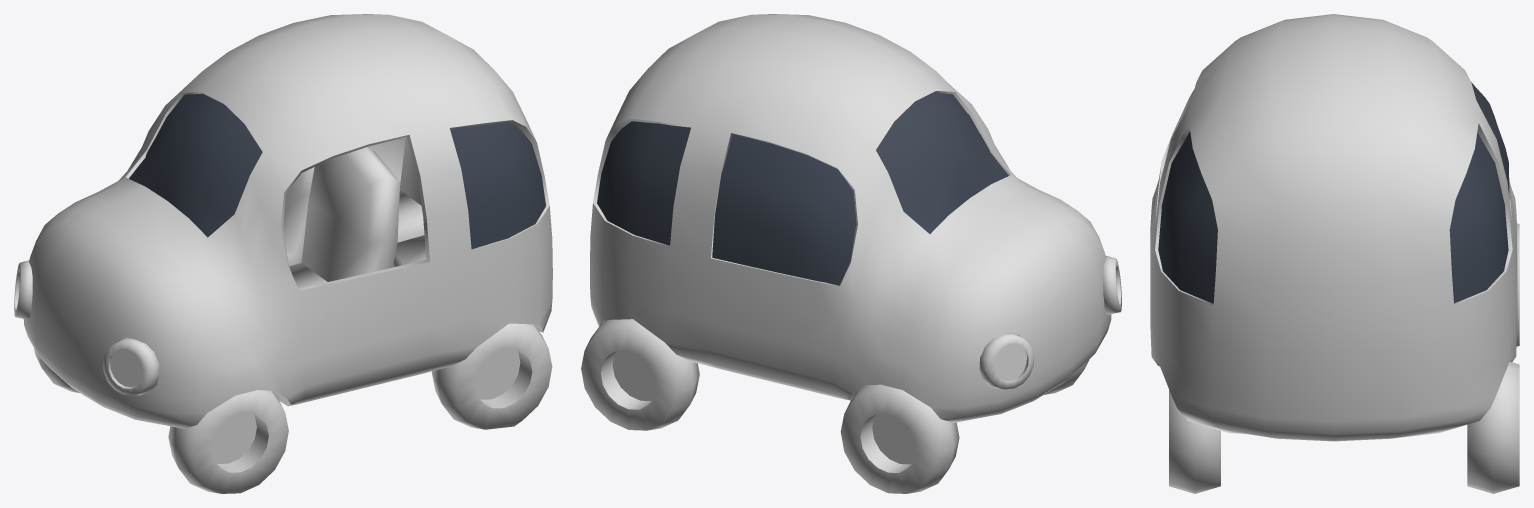
File: car.fbx
The picture shows the model from 3 angles, left to right: view 1: azimuth 30°, elevation 25°; view 2: azimuth 150°, elevation 25°; view 3: azimuth 270°, elevation 25°; orthographic projection. The views are drawn at different scales.
Visible parts, largest first — view 1: car; view 2: car; view 3: car.
Boxes of the visible parts, box(x1,y1,x2,y2) form: car: box(14, 14, 552, 493); car: box(581, 14, 1121, 493); car: box(1150, 14, 1519, 493).
Size of the model in its own units: 70196 by 53179 by 44626.
Materials: 2 (1 with a texture image).
